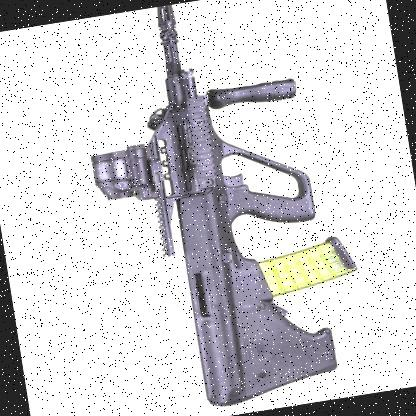rifle: (64, 0, 382, 416)
